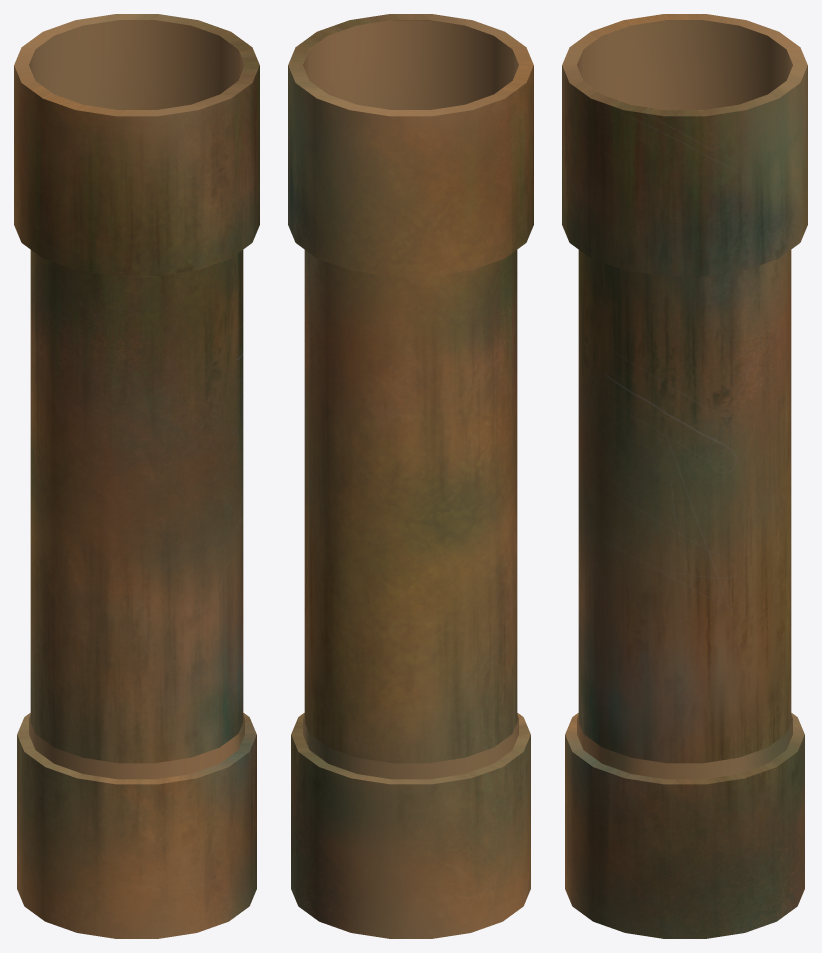
File: tubería2.fbx
The picture shows the model from 3 angles, left to right: view 1: azimuth 30°, elevation 25°; view 2: azimuth 150°, elevation 25°; view 3: azimuth 270°, elevation 25°; orthographic projection.
Parts seen in each view (by area): view 1: Cylinder.011; view 2: Cylinder.011; view 3: Cylinder.011.
Boxes of the visible parts, left/top/right/bottom form: Cylinder.011: left=14, top=14, right=259, bottom=938; Cylinder.011: left=288, top=14, right=533, bottom=938; Cylinder.011: left=562, top=14, right=807, bottom=938.
Bounding box in the file's own units: 43.67 × 164 × 44.34.
Materials: 1 (1 with a texture image).
